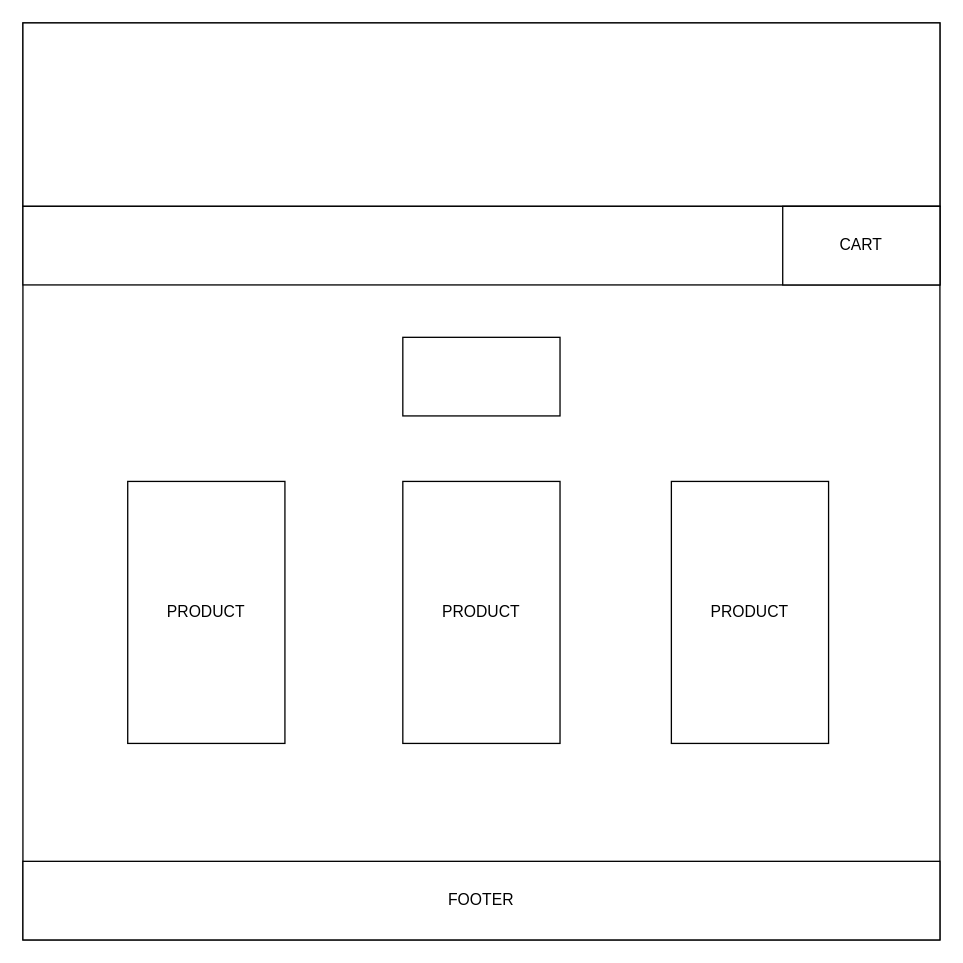
Some shapes in this 963 by 963 pixel diagram are drawn without their labels. Here are the shapes that lost their labels. From the top down, the box of each, then its label:
(22, 22, 940, 206): SITE TITLE
(22, 205, 940, 285): CAT1 CAT2 CAT3
(402, 336, 560, 416): FEATURED
